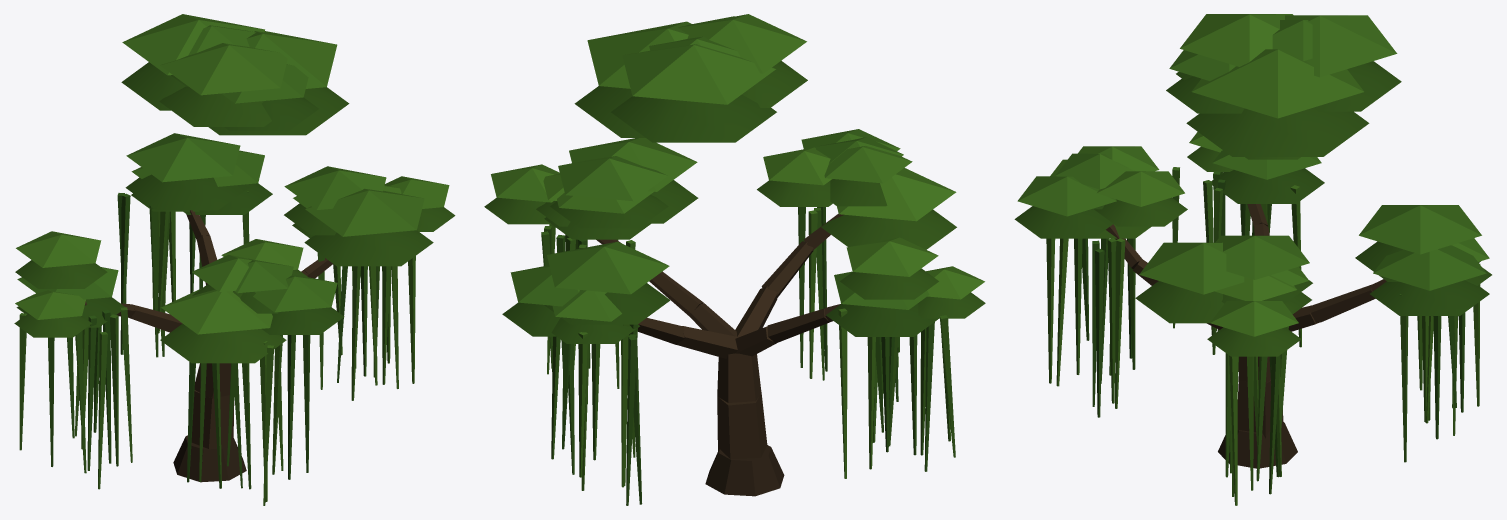
Rendered from tree_willow_1_mid.glb.
The picture shows the model from 3 angles, left to right: view 1: azimuth 30°, elevation 25°; view 2: azimuth 150°, elevation 25°; view 3: azimuth 270°, elevation 25°; orthographic projection. The views are drawn at different scales.
Parts seen in each view (by area): view 1: leaf, wood; view 2: leaf, wood; view 3: leaf, wood.
Boxes of the visible parts, bbox=[...] form: leaf: bbox=[14, 14, 455, 505]; wood: bbox=[85, 210, 332, 482]; leaf: bbox=[484, 14, 985, 505]; wood: bbox=[596, 213, 843, 496]; leaf: bbox=[1014, 14, 1491, 505]; wood: bbox=[1106, 204, 1386, 468].
Bounding box in the file's own units: 9.98 × 9.16 × 8.92.
